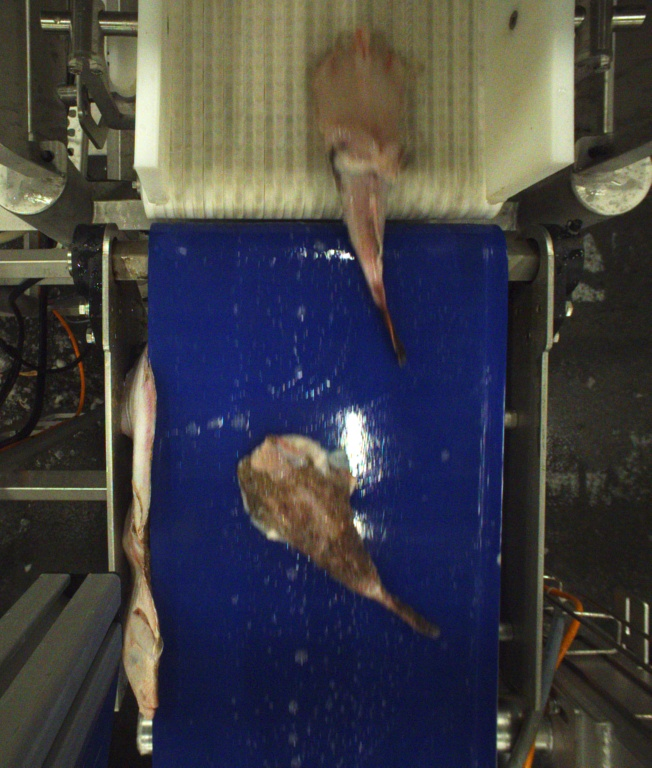ANF: (310, 24, 417, 369)
